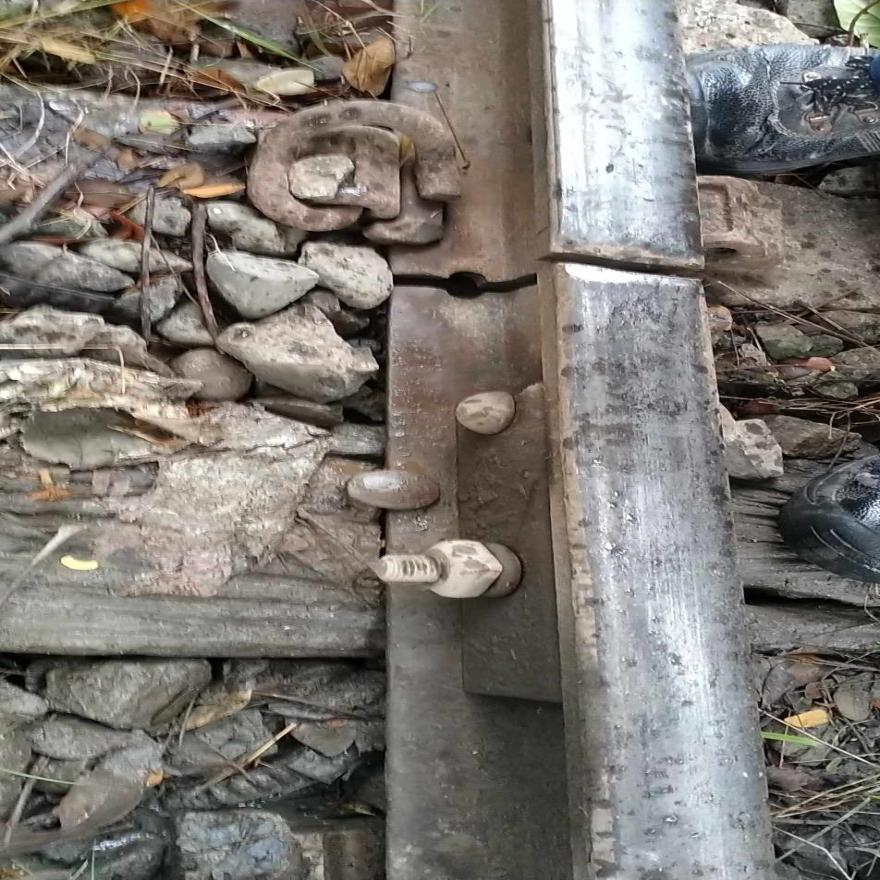railway-gap: (540, 205, 717, 330)
